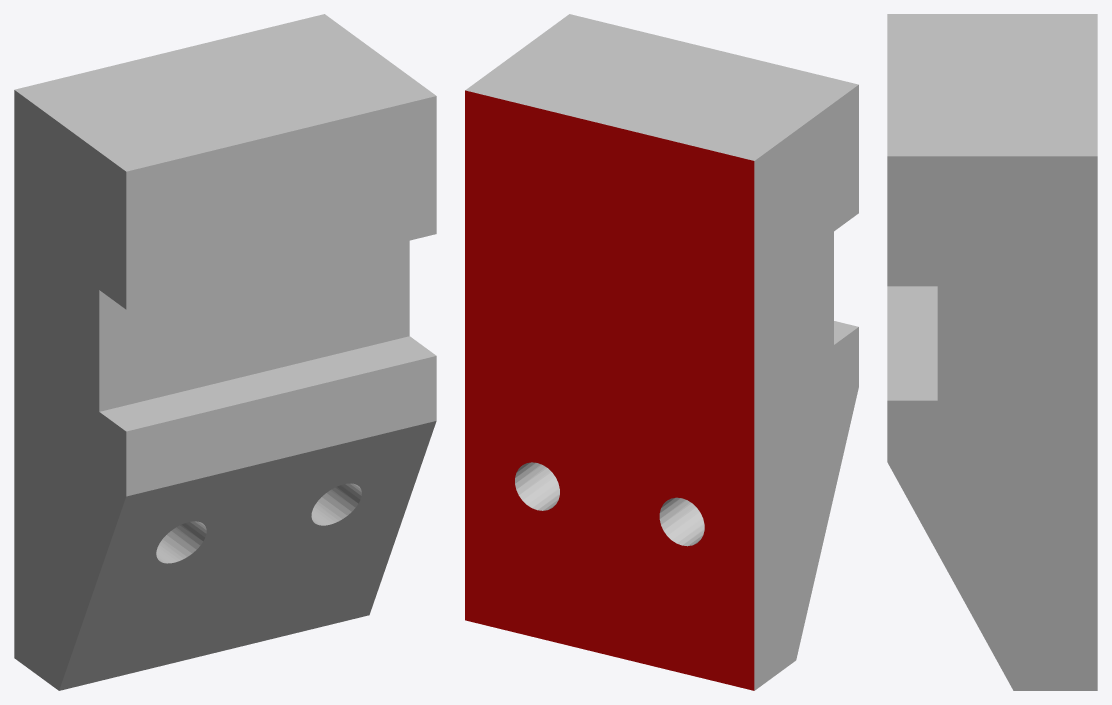
File: TESTE_M5_SF_stp_11.obj
3 views of the same model, side by side, from view 1: azimuth 30°, elevation 25°; view 2: azimuth 150°, elevation 25°; view 3: azimuth 270°, elevation 25° (orthographic). The views are drawn at different scales.
Parts seen in each view (by area): view 1: Object1; view 2: Object1; view 3: Object1.
Part boxes in pixels (left/top/right/bottom): Object1: left=14, top=14, right=436, bottom=690; Object1: left=465, top=14, right=858, bottom=690; Object1: left=887, top=14, right=1097, bottom=690.
Size of the model in its own units: 50.8 by 88.9 by 31.75.
